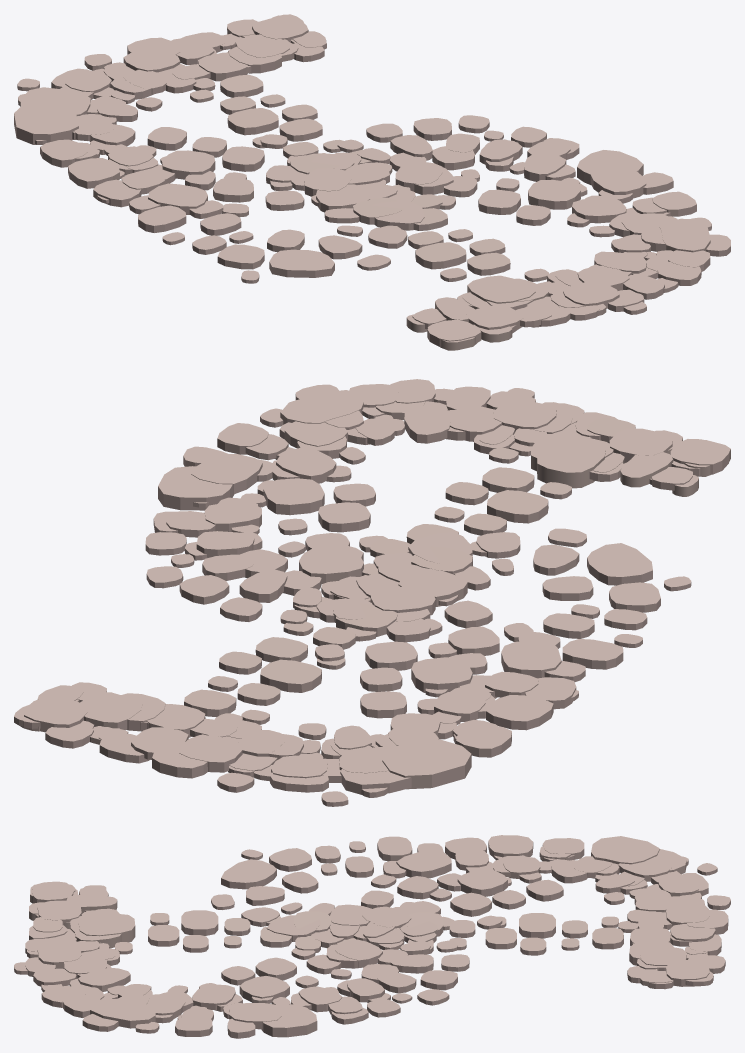
File: ways.fbx
The picture shows the model from 3 angles, top to bottom: view 1: azimuth 30°, elevation 25°; view 2: azimuth 150°, elevation 25°; view 3: azimuth 270°, elevation 25°; orthographic projection. The views are drawn at different scales.
Visible parts, largest first — view 1: YOL5, YOL1, YOL2, YOL3; view 2: YOL5, YOL1, YOL2, YOL3; view 3: YOL5, YOL1, YOL2, YOL3.
Boxes of the visible parts, x1,y1,x2,y2 form: YOL5: (42,15,701,342); YOL1: (17,19,730,347); YOL2: (14,16,710,329); YOL3: (171,14,599,350); YOL5: (19,379,710,778); YOL1: (19,384,728,806); YOL2: (24,388,700,797); YOL3: (14,403,730,759); YOL5: (27,835,713,1029); YOL1: (25,837,730,1038); YOL2: (14,836,709,1028); YOL3: (25,884,715,986).
Bounding box in the file's own units: 2973 × 90.02 × 4581.
